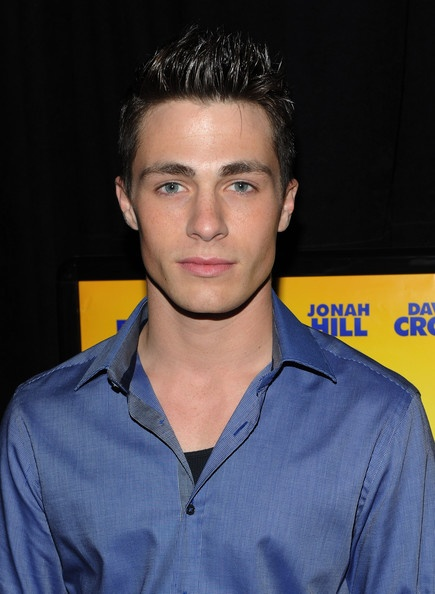face: (139, 99, 279, 318)
